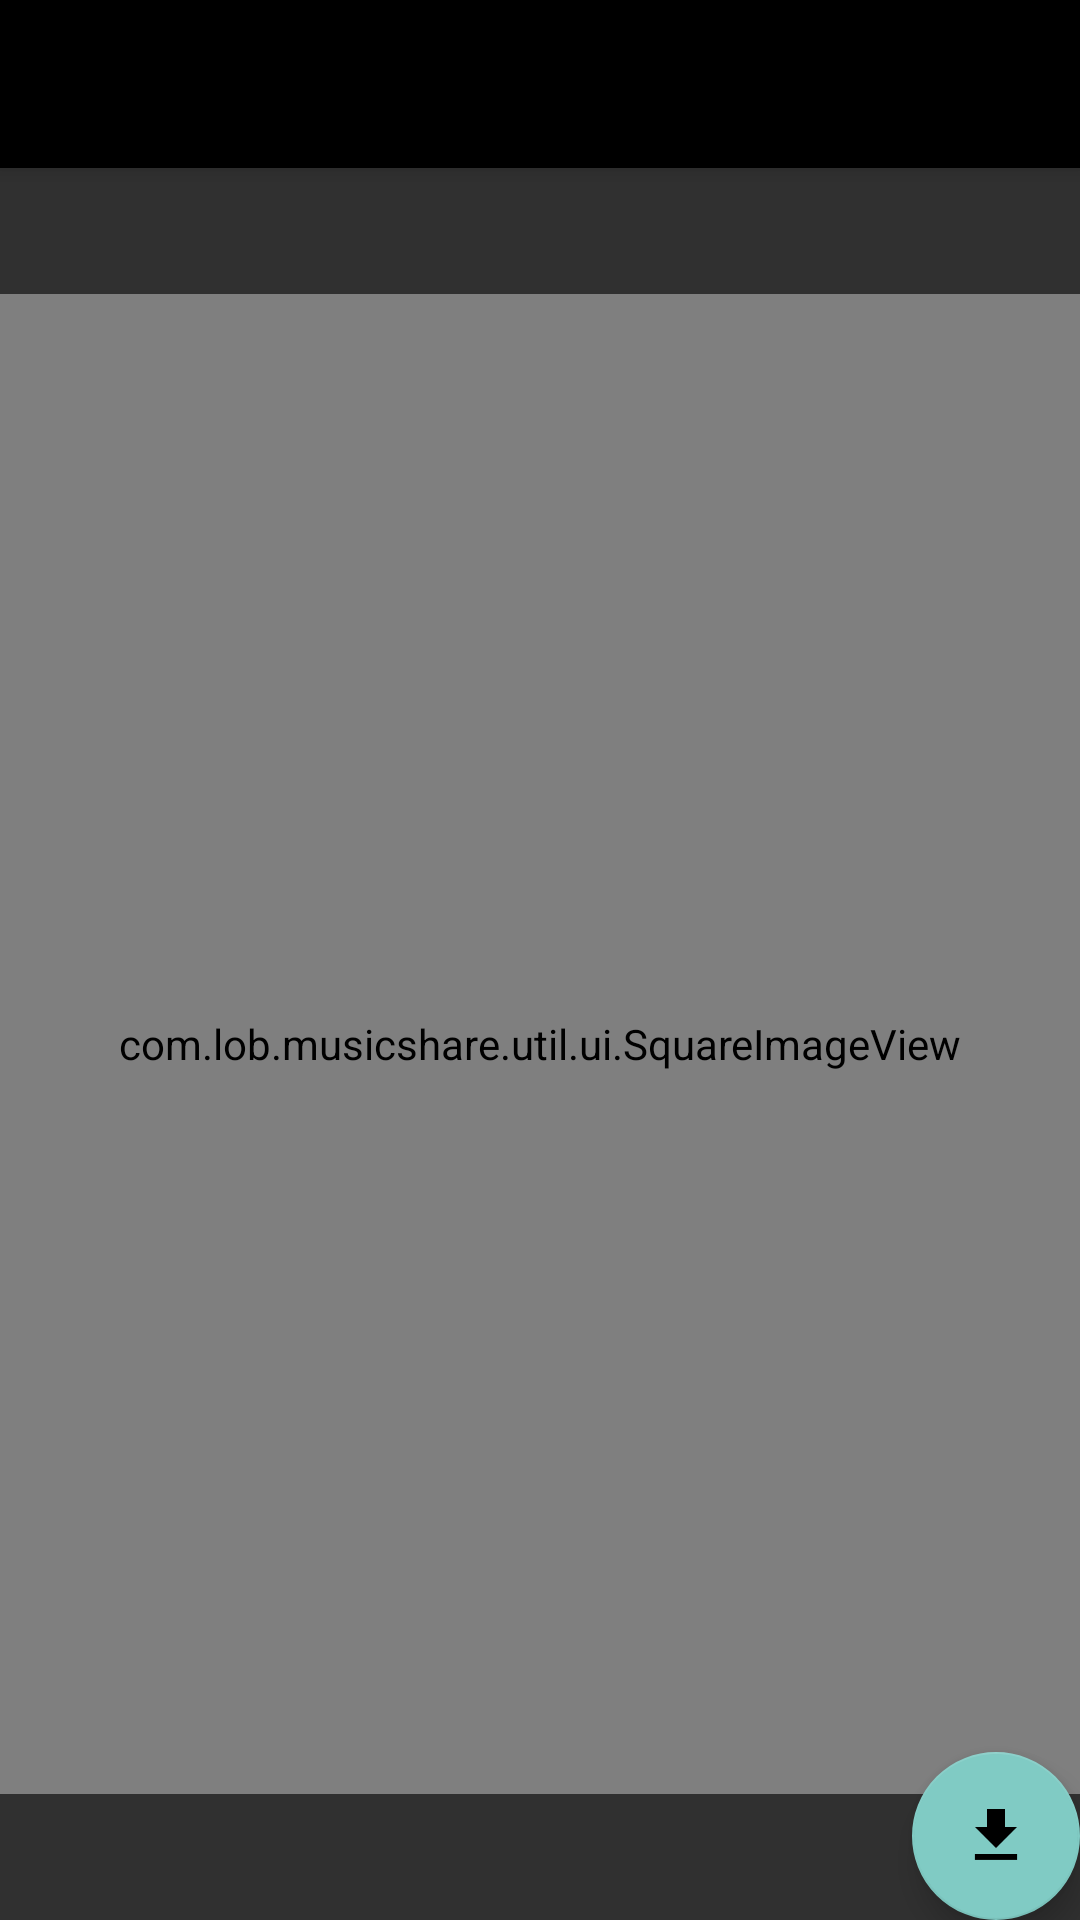

Icons on this 1080 x 1920 Android screen, each with its box as BBox(x1, y1, x2, y2):
download: BBox(912, 1752, 1080, 1920)
